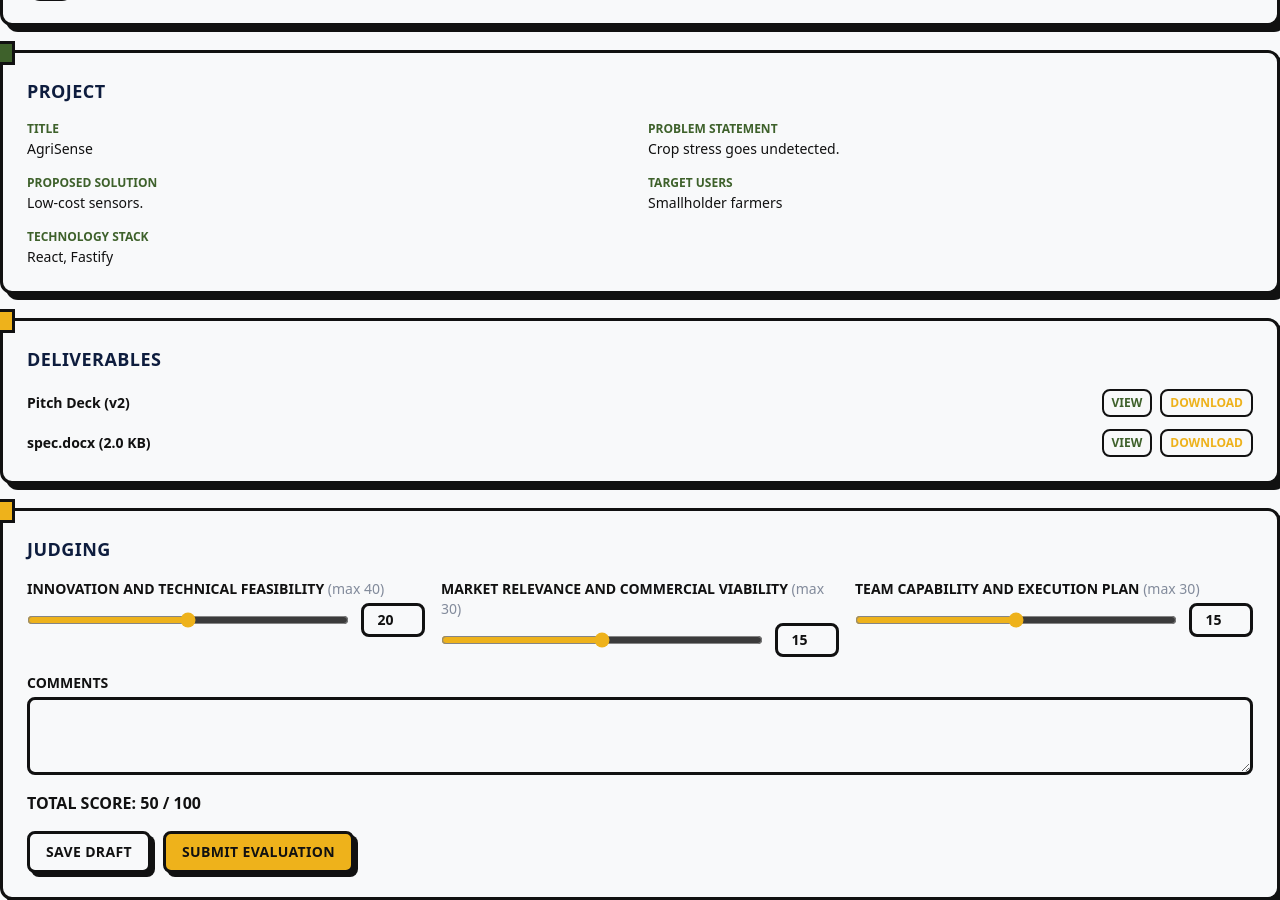
Test: Judge dashboard + evaluation (frontend) › rejects an error from a failed draft save without crashing
What coordinates should you click on to do the following:
click the button with test id "judge-save-draft-button"
I would click on:
 (89, 852)
Its box is [27,831,151,873].
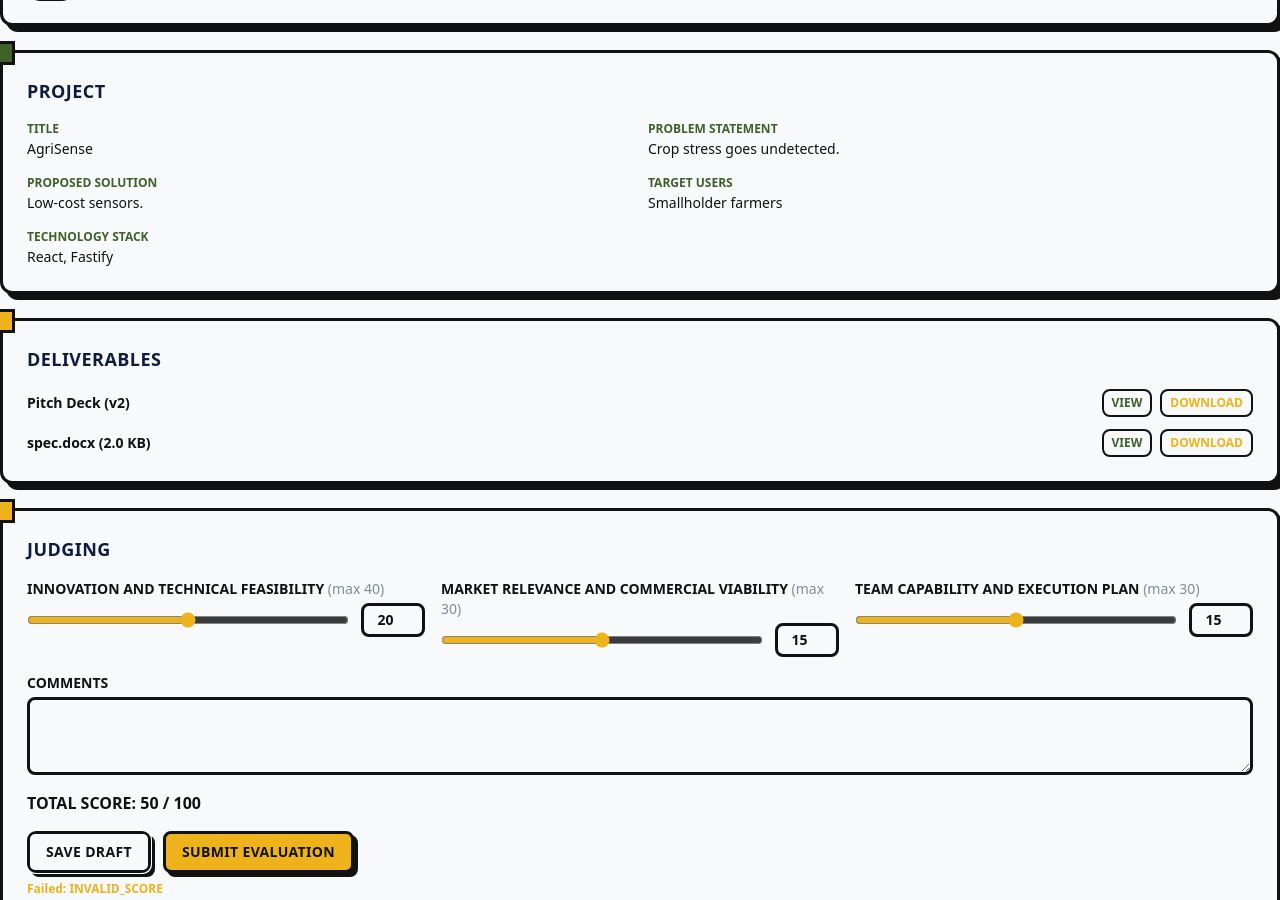
Expected: the text "Failed: INVALID_SCORE" is shown, [27,880,163,897]
